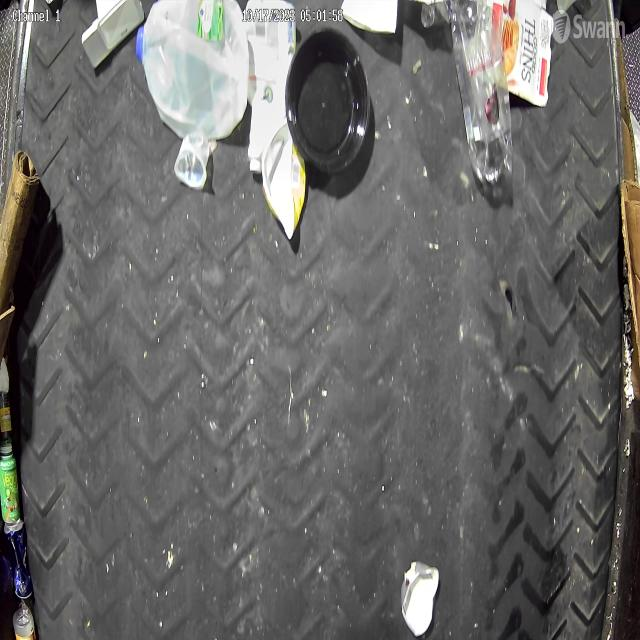milk_jug: (136, 1, 250, 141)
plastic_bottle: (449, 0, 512, 184)
